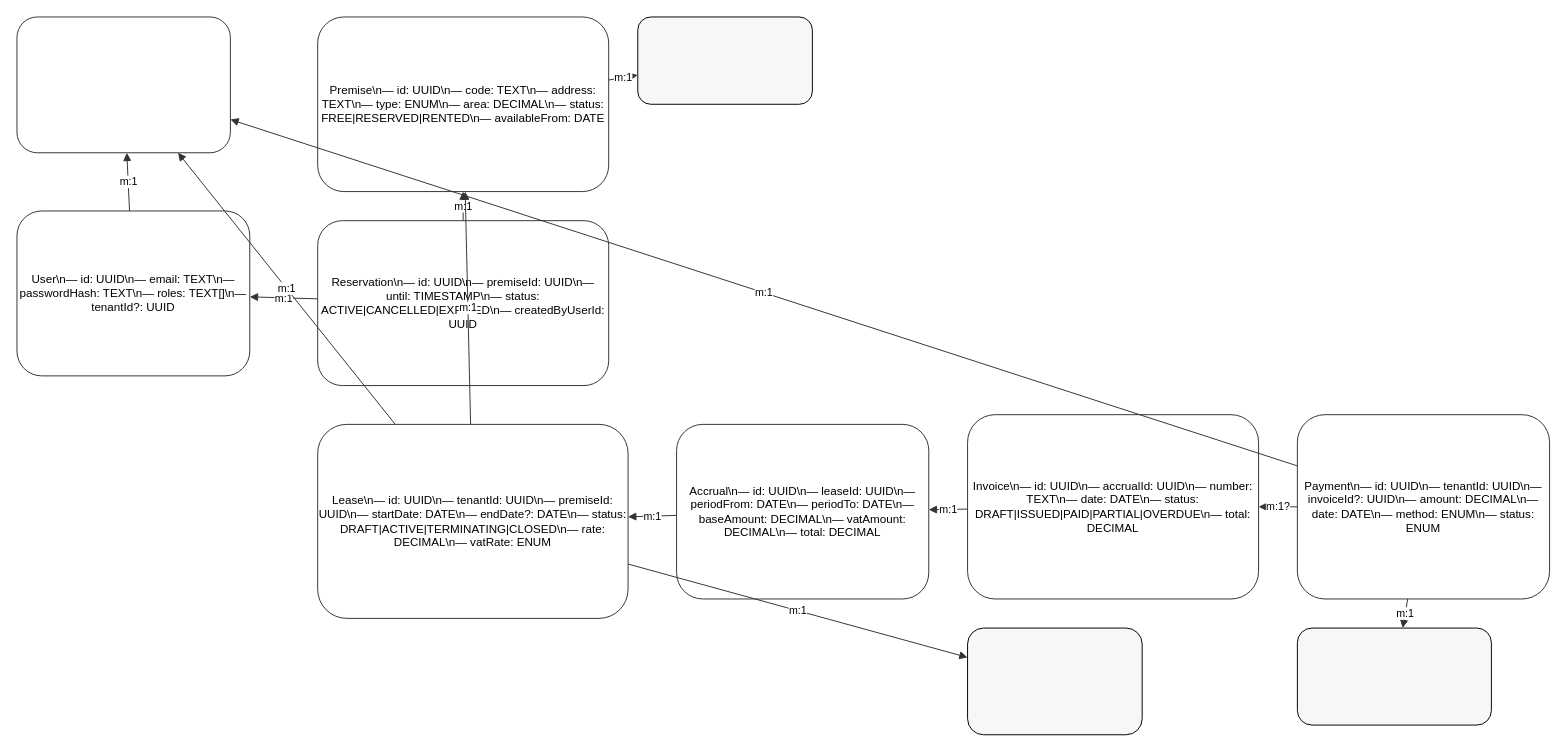
Some shapes in this 1567 by 752 pixel diagram are drawn without their labels. Each missing label, with the centre of its shape:
PaymentMethod\n— code\n— title: [1393,676]
PremiseType\n— code\n— title: [724,60]
Tenant\n— id: UUID\n— name: TEXT\n— unp: TEXT\n— contacts: JSON: [123,84]
VatRate\n— id\n— code\n— percent\n— validFrom/To: [1054,681]
